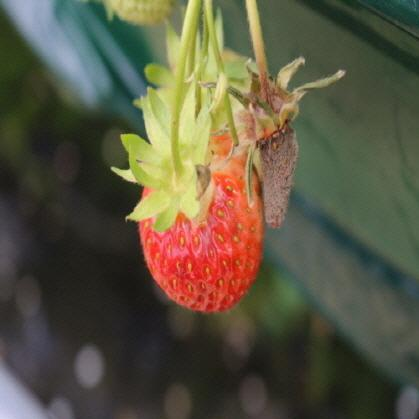Gray Mold: (241, 71, 298, 228)
